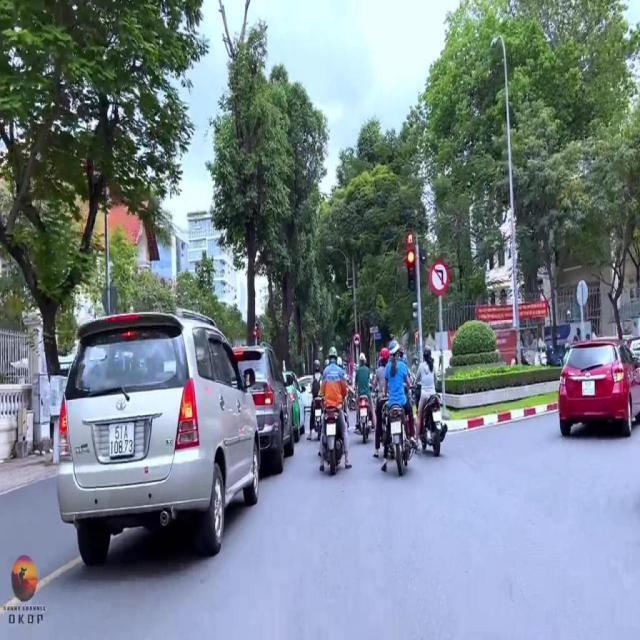106-cam-oto-tai: (354, 332, 362, 346)
123a-cam-re-trai: (428, 260, 450, 296)
